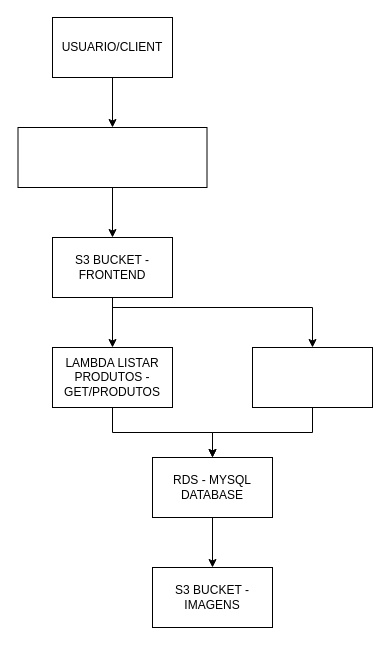
Image size: 390x645. Some labels were removed from this diagram. The centre of each missing label's shape, as x and y in pixels:
API GATEWAY - ECOMMERCEAPI_AVALIACAO: point 112,157
ECS CLUSTER - CONTAINER BACKEND: point 312,377
